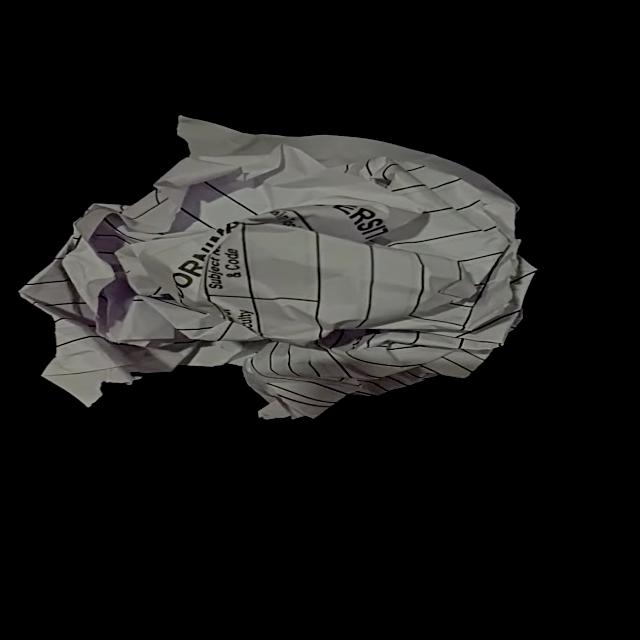PaperBall: (1, 108, 559, 430)
